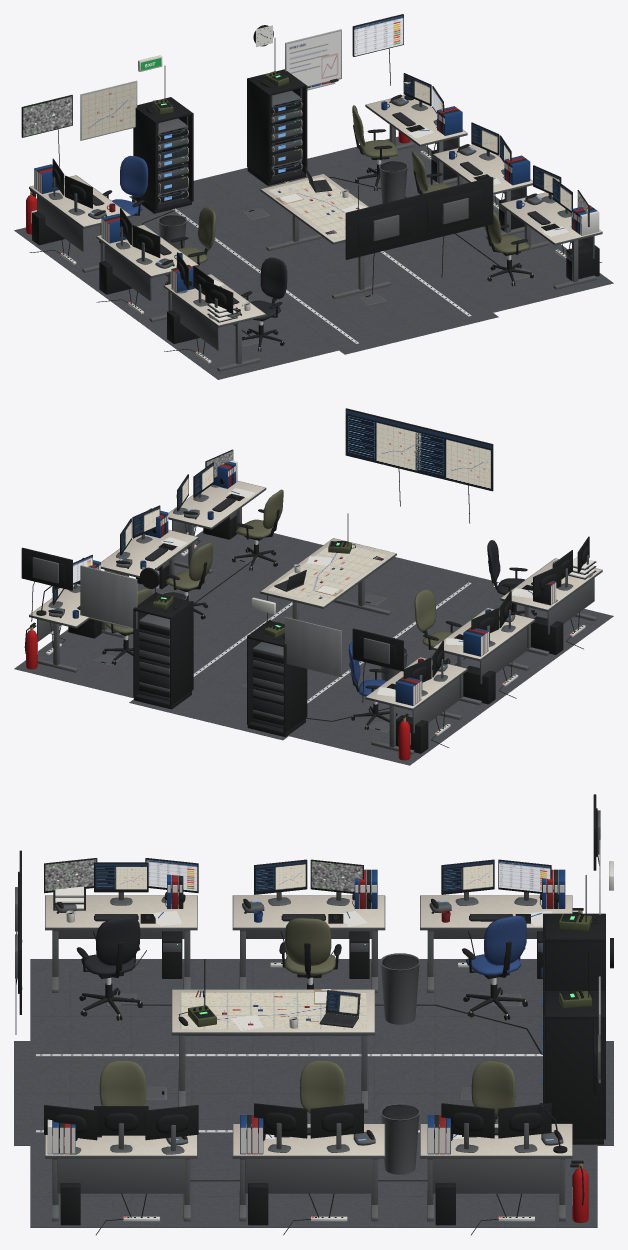
The model's file is mecc-fitout.glb.
The picture shows the model from 3 angles, top to bottom: view 1: azimuth 30°, elevation 25°; view 2: azimuth 150°, elevation 25°; view 3: azimuth 270°, elevation 25°; orthographic projection. The views are drawn at different scales.
Parts seen in each view (by area): view 1: MECC_fitout; view 2: MECC_fitout; view 3: MECC_fitout.
Part boxes in pixels (x1=…): MECC_fitout: x1=14, y1=14, x2=613, y2=379; MECC_fitout: x1=14, y1=408, x2=613, y2=765; MECC_fitout: x1=14, y1=794, x2=613, y2=1235.
Size of the model in its own units: 6.65 by 2.11 by 5.92.
Materials: 39 (15 with a texture image).
